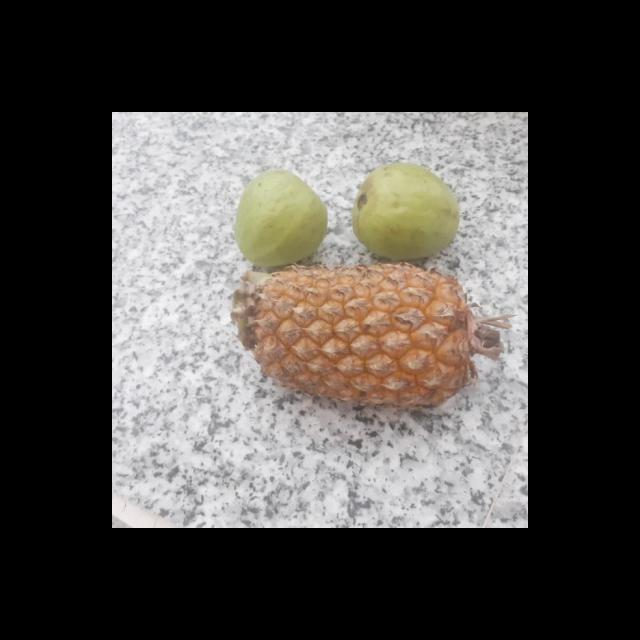guava: (350, 164, 458, 257), (230, 172, 329, 270)
pineapple: (228, 260, 488, 410)
